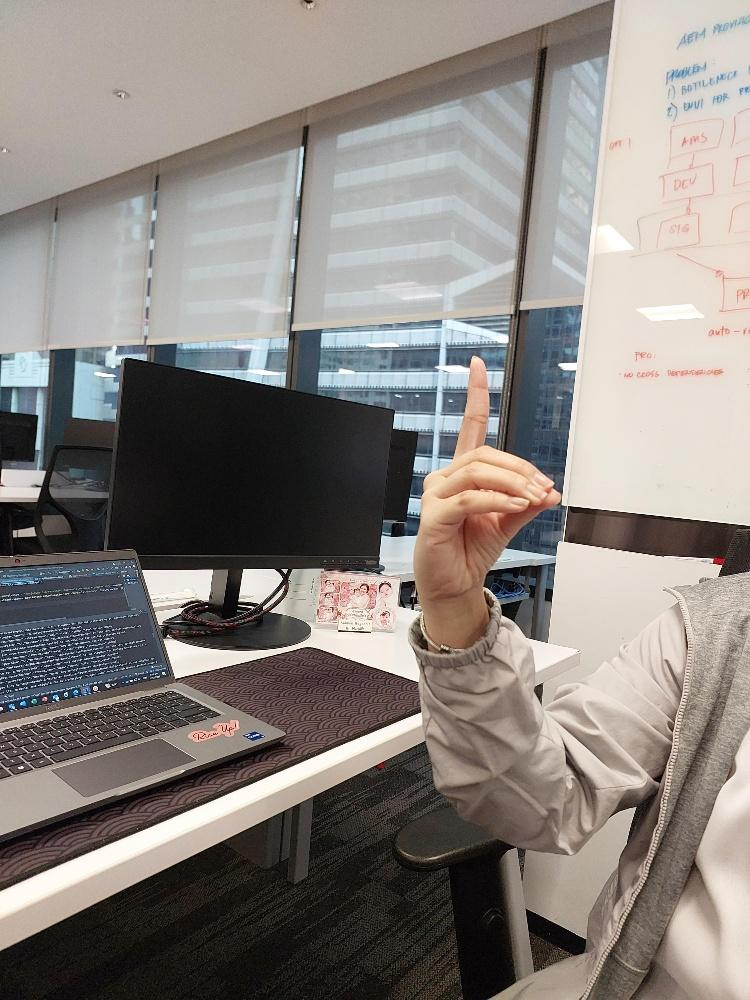d: (411, 356, 559, 601)
